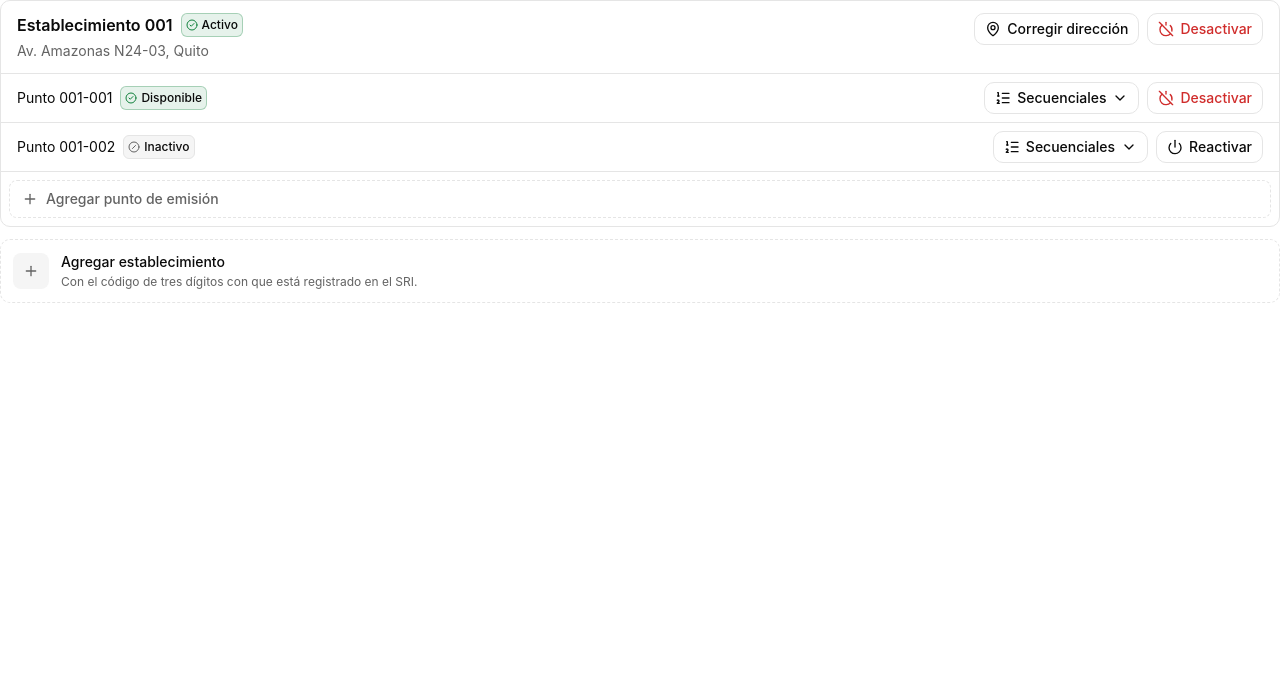
secuenciales de cada punto (design D14) › muestra solo los del ambiente vigente
The width and height of the screenshot is (1280, 693).
Step 1. Click the button with aria-label "Secuenciales del punto 001-001" → [1062, 98], box left=984, top=82, right=1140, bottom=114
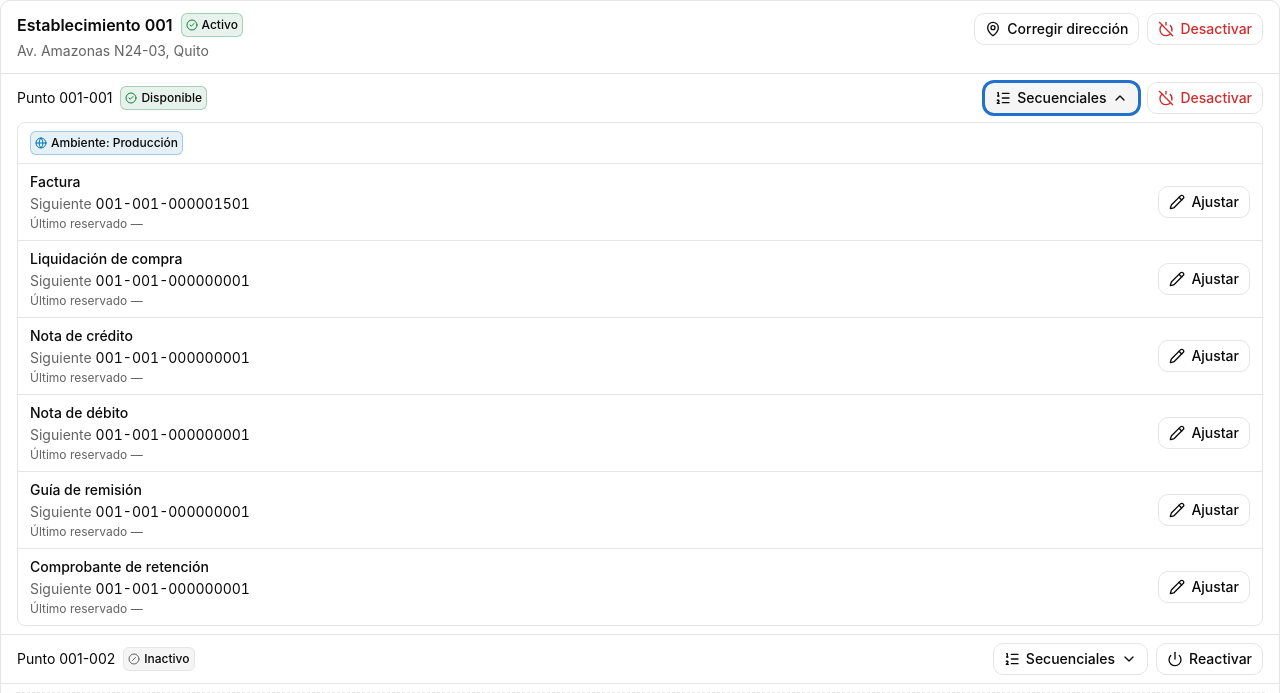
Check: the list item that starts with "Factura" shows "Siguiente 001-001-000001501", box left=18, top=164, right=1262, bottom=241
Check: the text "Ambiente: Producción" is shown, box left=51, top=135, right=178, bottom=151
